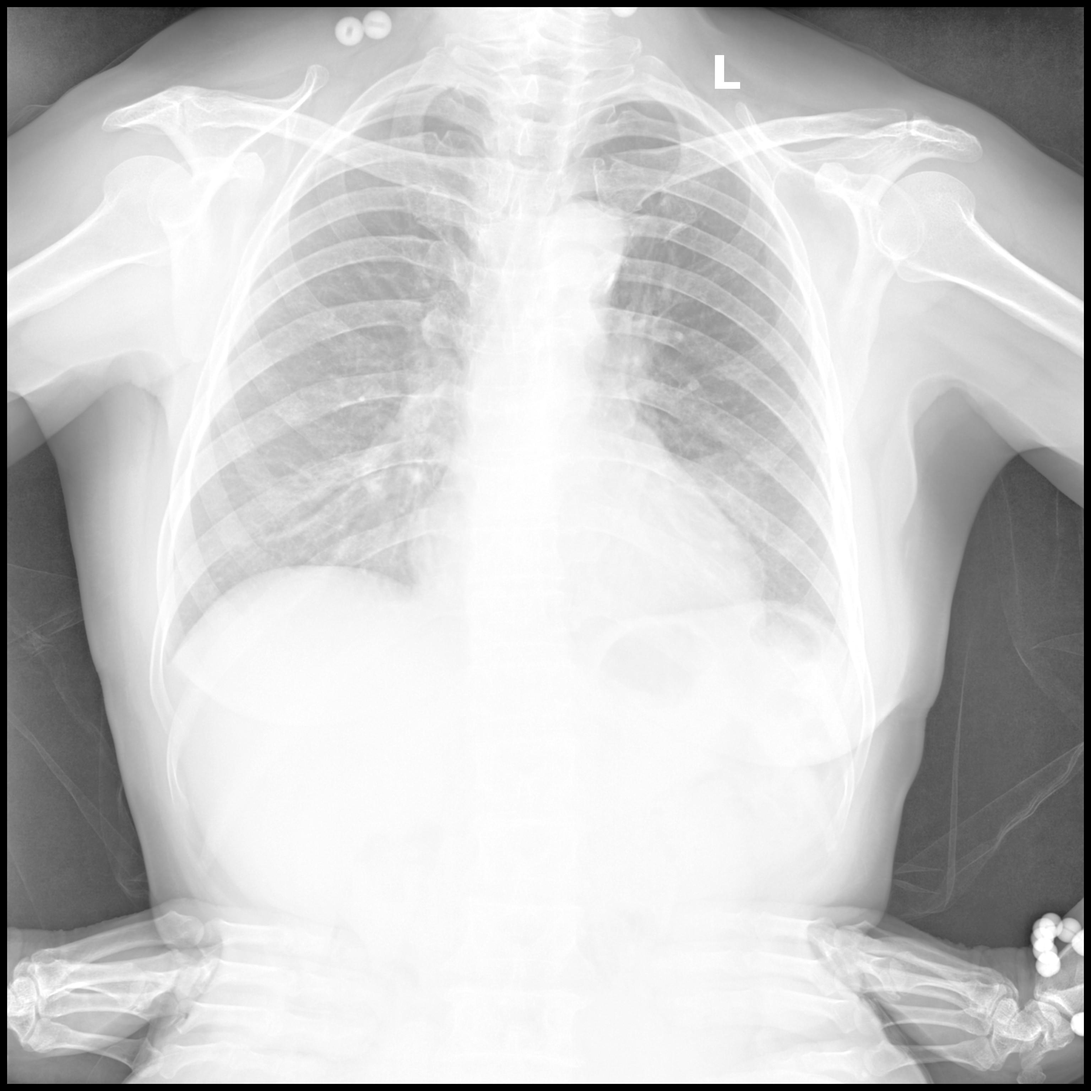Cardiomegaly: (403, 495, 771, 619)
